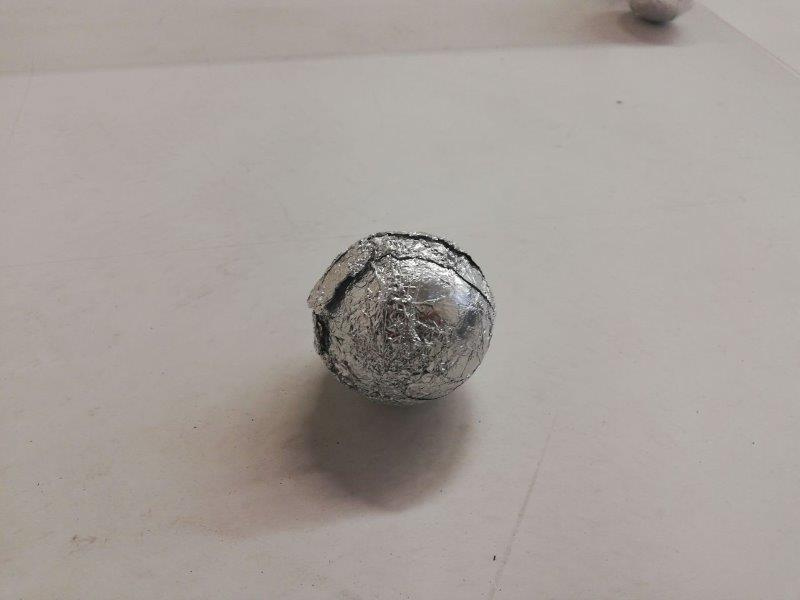bianca: (309, 227, 493, 403)
